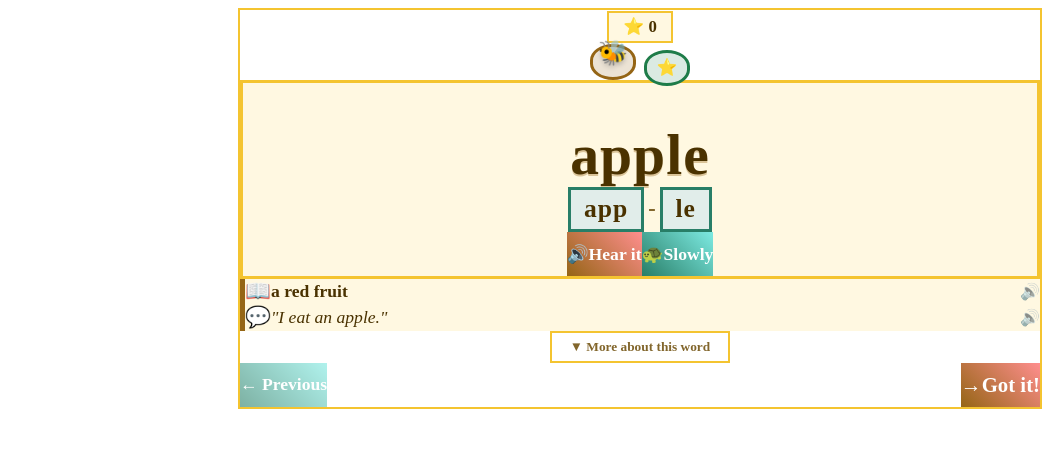
a word met before pays nothing › learning an earlier day’s words again pays no stars or snacks and moves no ledger
Click the button "→ Got it!" at (1000, 384), box [961,362,1040,406]
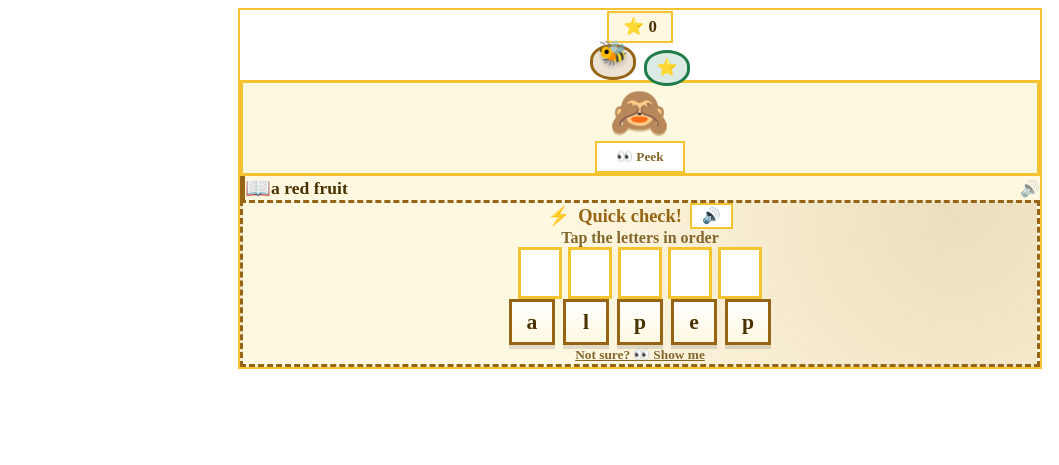
Click the button "Not sure? 👀 Show me" at (640, 355), box [569,346,711,364]
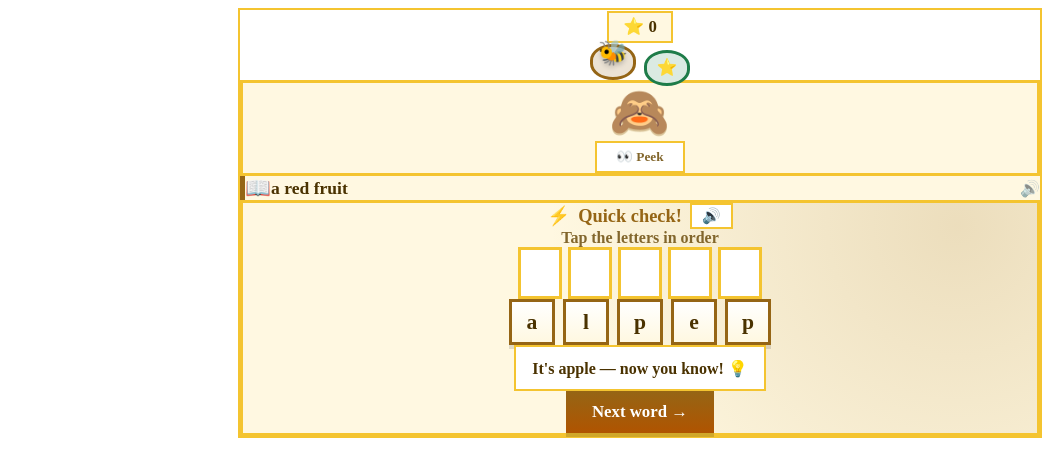
Click the button "Next word →" at (640, 412), box [566,391,714,433]
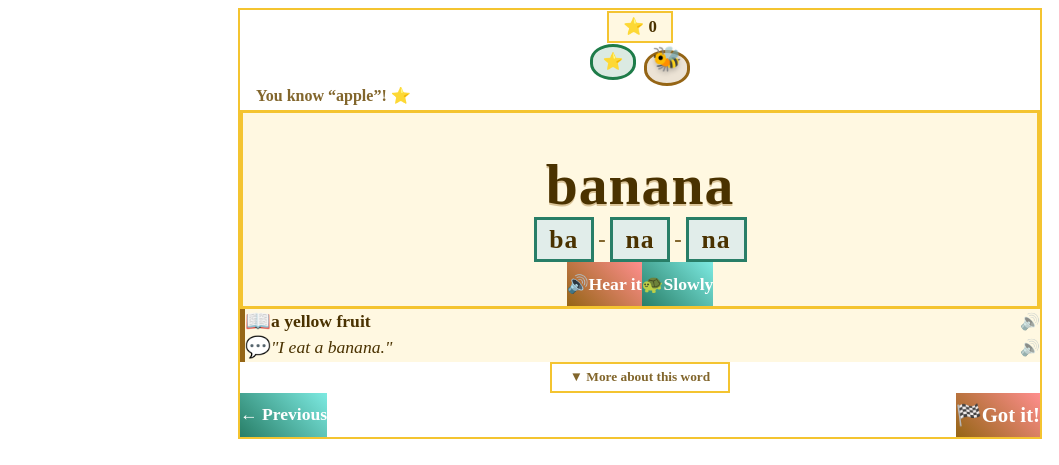
Click the button "🏁 Got it!" at (998, 415), box [956,393,1040,437]
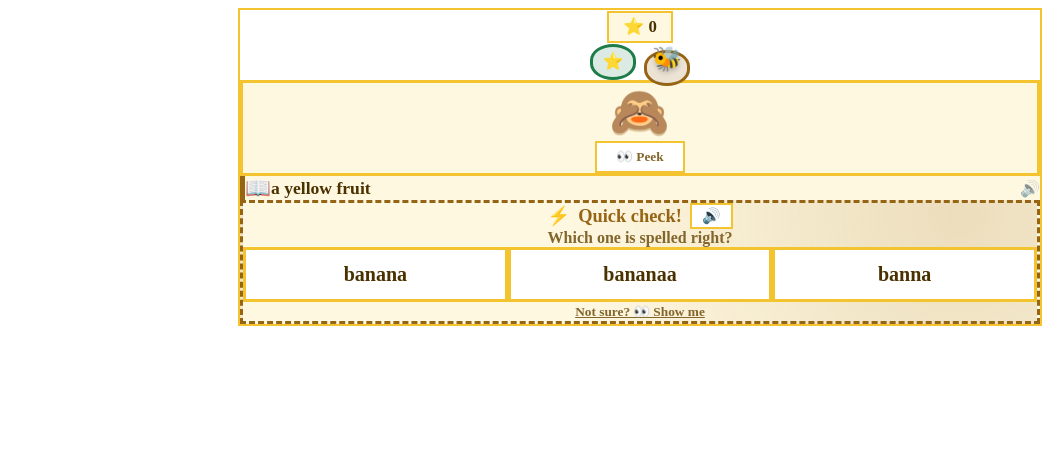
Click the button "Not sure? 👀 Show me" at (640, 312), box [569,303,711,321]
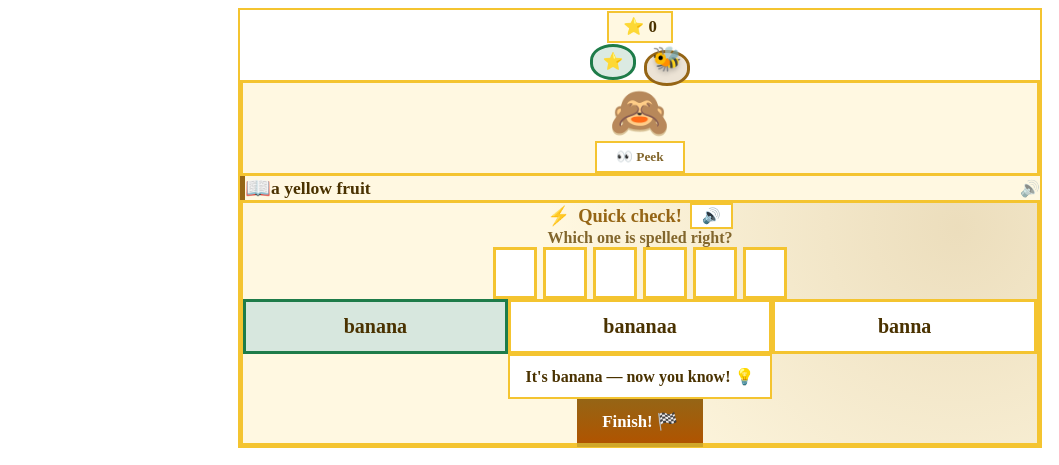
Click the button "Finish! 🏁" at (640, 421), box [577,399,703,443]
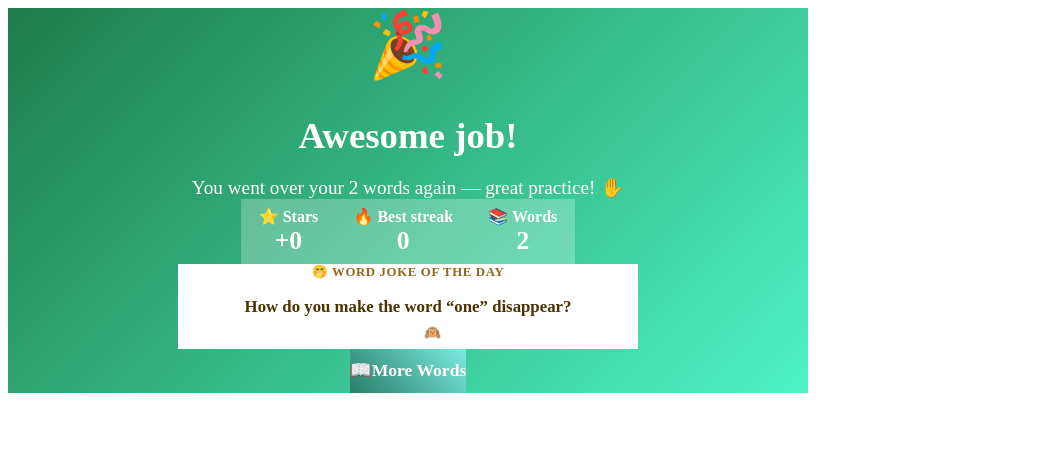
Check: the text "You went over your 2 words again — great practice! ✋" is shown, box [192,176,624,199]
